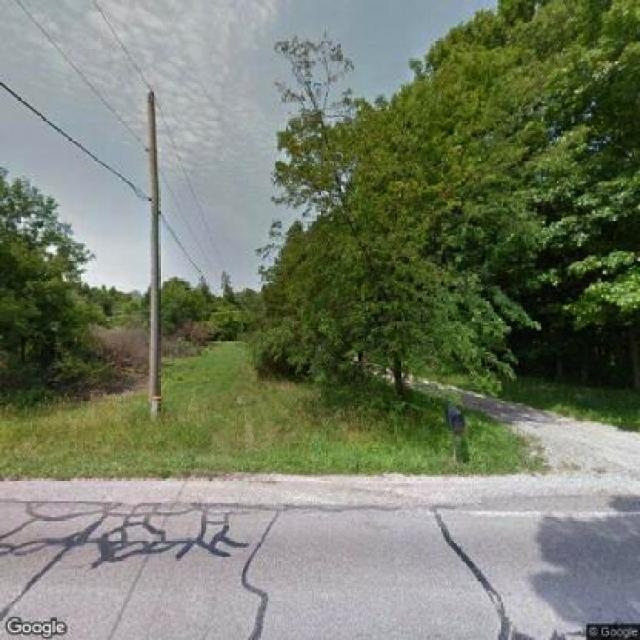pole: (146, 92, 162, 405)
wire: (2, 80, 203, 278), (92, 0, 221, 259), (14, 0, 148, 152)
